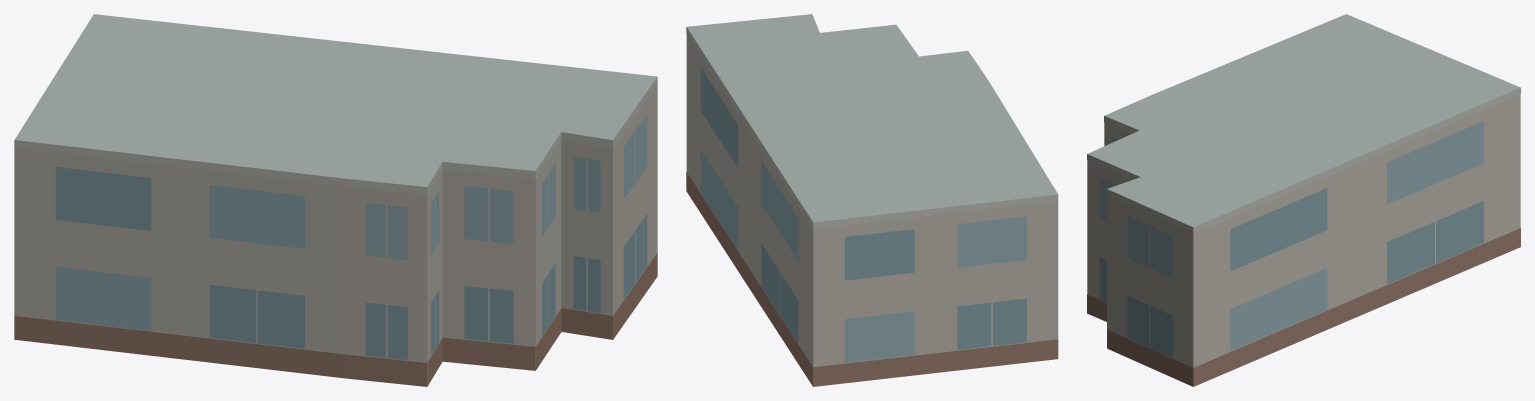
The model's file is survey-upis-32908712.glb.
3 renders of one model, left to right at view 1: azimuth 30°, elevation 25°; view 2: azimuth 150°, elevation 25°; view 3: azimuth 270°, elevation 25°, orthographic. The views are drawn at different scales.
Parts seen in each view (by area): view 1: survey-upis-32908712.tmp; view 2: survey-upis-32908712.tmp; view 3: survey-upis-32908712.tmp.
Boxes of the visible parts, x1,y1,x2,y2 form: survey-upis-32908712.tmp: [14, 14, 657, 386]; survey-upis-32908712.tmp: [686, 14, 1058, 386]; survey-upis-32908712.tmp: [1087, 14, 1520, 386].
Bounding box in the file's own units: 17.5 × 6.1 × 15.03.
